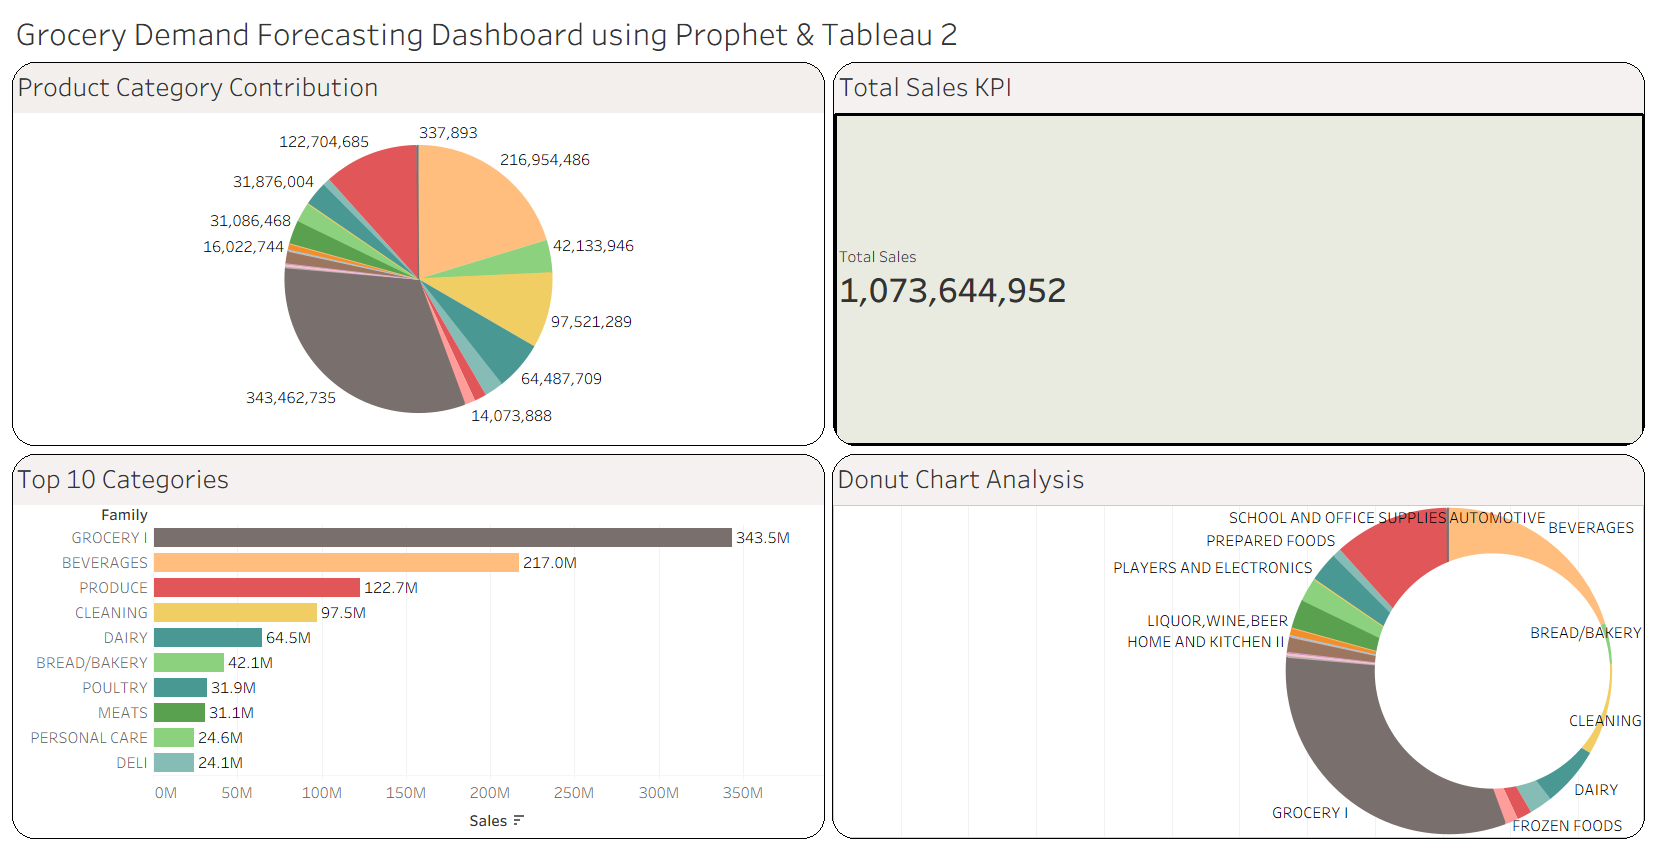

What the dashboard file says about the page in this screenshot:
{"tool":"tableau","page":{"name":"Dashboard 1","canvas":[1600,800],"ordinal":0},"visuals":[{"type":"title","box":[8,8,1584,60]},{"type":"worksheet","title":"Sheet 1","mark":"Automatic","rows":["sales"],"cols":["date"],"box":[8,68,514,362]},{"type":"worksheet","title":"Sheet 2","mark":"Pie","box":[522,68,558,362]},{"type":"worksheet","title":"Sheet 5","mark":"Automatic","rows":["sales"],"cols":["weekday"],"box":[1080,68,512,362]},{"type":"worksheet","title":"Sheet 4","mark":"Automatic","rows":["onpromotion"],"cols":["sales"],"box":[8,430,514,362]},{"type":"worksheet","title":"Sheet 6","mark":"Automatic","rows":["sales"],"cols":["date"],"box":[522,430,557.8,362]},{"type":"worksheet","title":"Sheet 3","mark":"Automatic","rows":["sales"],"cols":["store_nbr"],"box":[1079.8,430,512.2,362]}]}

Visuals, with their boxes in screenshot pixels (x1, y1, x2, y2), scaled from the page's 1600x800 canvas onto the 1657x851 screenshot:
title: pyautogui.locateOnScreen(8, 9, 1649, 72)
"Sheet 1" worksheet: pyautogui.locateOnScreen(8, 72, 541, 457)
"Sheet 2" worksheet (Pie marks): pyautogui.locateOnScreen(541, 72, 1118, 457)
"Sheet 5" worksheet: pyautogui.locateOnScreen(1118, 72, 1649, 457)
"Sheet 4" worksheet: pyautogui.locateOnScreen(8, 457, 541, 842)
"Sheet 6" worksheet: pyautogui.locateOnScreen(541, 457, 1118, 842)
"Sheet 3" worksheet: pyautogui.locateOnScreen(1118, 457, 1649, 842)
